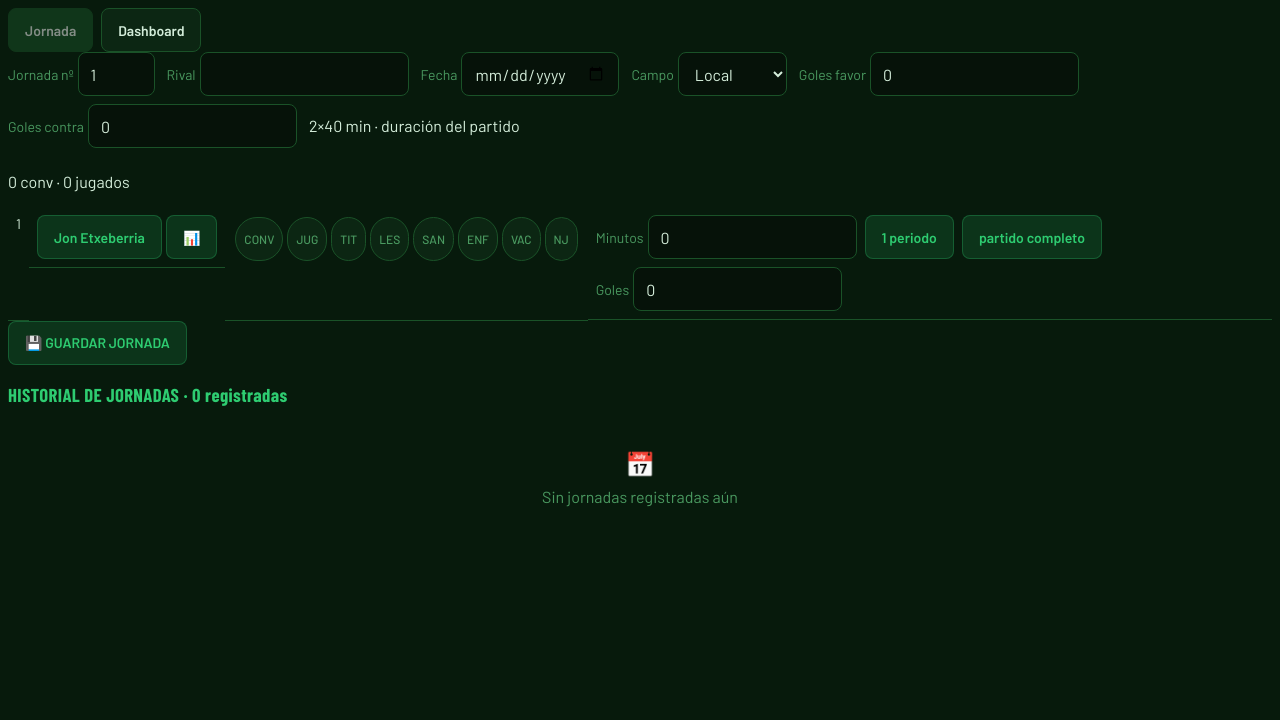
MinutajeTab › dashboard view renders the participation table and alerts panel
Check: the button "Jon Etxeberria" is shown, box [37, 215, 162, 259]
Click the button "Dashboard". click: x=151, y=30
box: [101, 8, 202, 52]
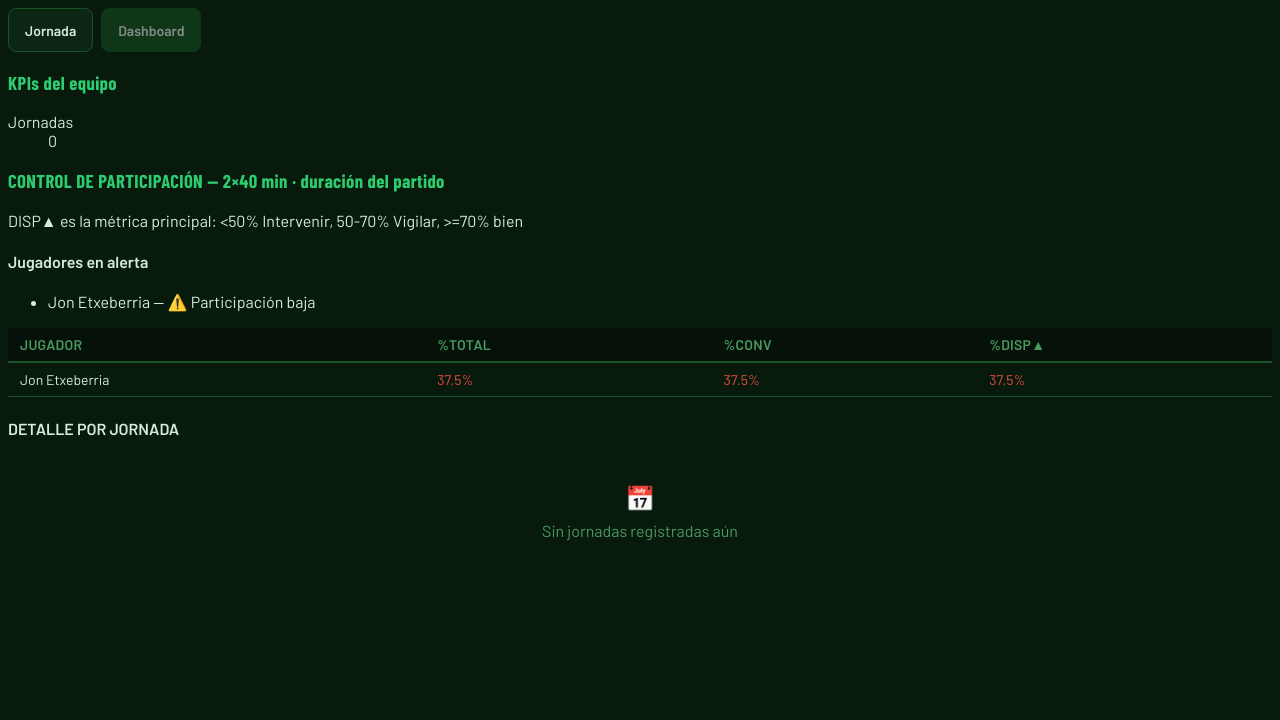
Check: the text "Jon Etxeberria" is shown, box [8, 362, 425, 397]
Check: the list item "Jon Etxeberria — ⚠️ Participación baja" is shown, box [48, 292, 316, 311]
